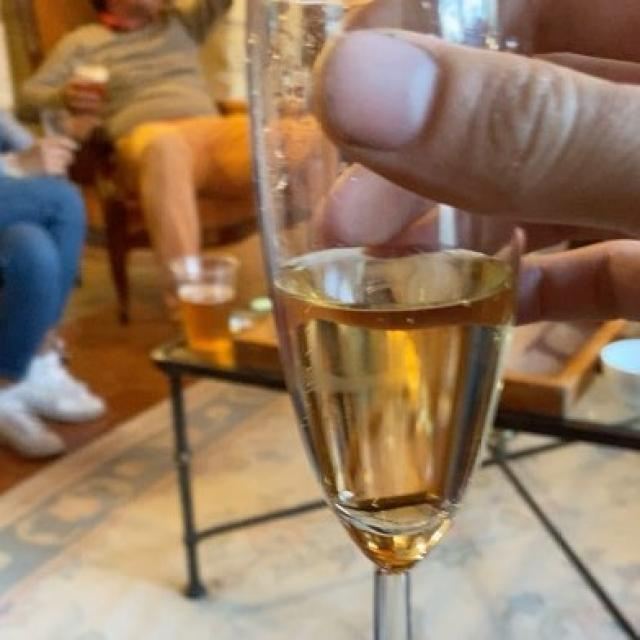sekt: (282, 270, 504, 550)
